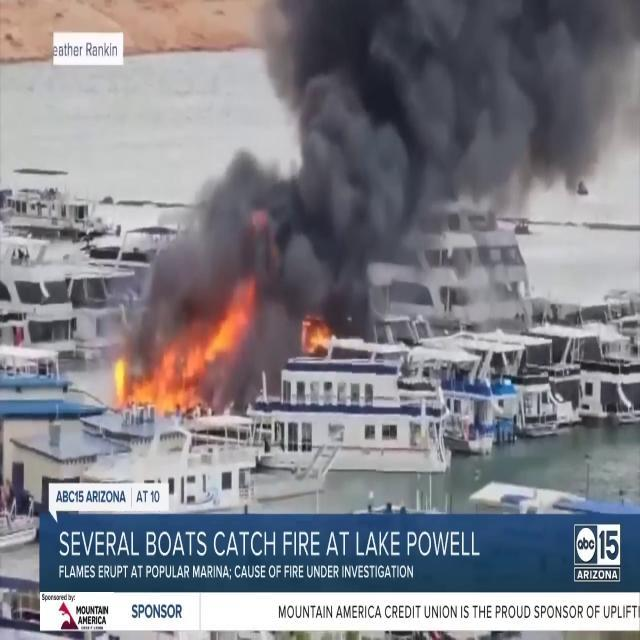Fire: (106, 303, 252, 419), (298, 314, 338, 356)
Smoke: (132, 0, 626, 358)
